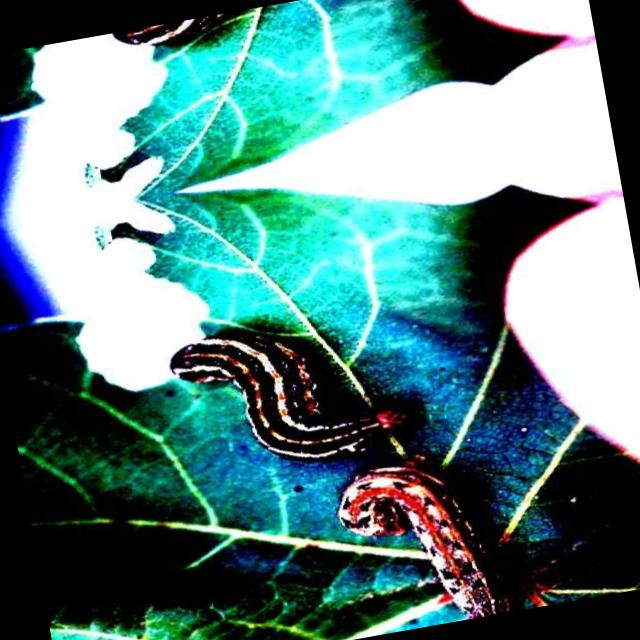Armyworm: (157, 295, 415, 495), (318, 434, 549, 639)
